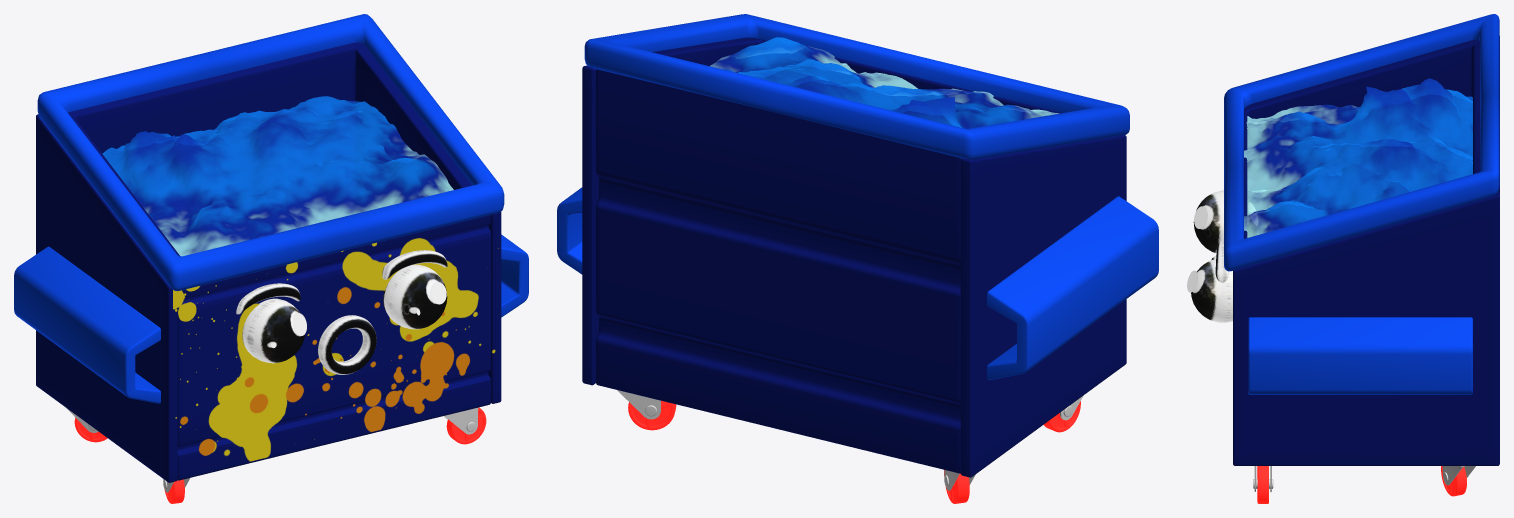
3 views of the same model, side by side, from view 1: azimuth 30°, elevation 25°; view 2: azimuth 150°, elevation 25°; view 3: azimuth 270°, elevation 25° (orthographic). The views are drawn at different scales.
Parts seen in each view (by area): view 1: Dumpster Geometry, Explosion Fire Base.001, Wheel Holder; view 2: Dumpster Geometry, Explosion Fire Base.001, Wheel Holder; view 3: Dumpster Geometry, Explosion Fire Base.001, Wheel Holder.
Boxes of the visible parts, <box> form: Dumpster Geometry: <box>14,14,528,503</box>; Explosion Fire Base.001: <box>102,96,453,256</box>; Wheel Holder: <box>66,407,478,492</box>; Dumpster Geometry: <box>557,14,1158,503</box>; Explosion Fire Base.001: <box>710,37,1059,128</box>; Wheel Holder: <box>617,390,1083,490</box>; Dumpster Geometry: <box>1187,14,1499,503</box>; Explosion Fire Base.001: <box>1244,78,1472,237</box>; Wheel Holder: <box>1253,466,1475,492</box>.
Size of what is drawn, in the model's own units: 2.31 by 1.85 by 1.55.
Materials: 9 (5 with a texture image).
